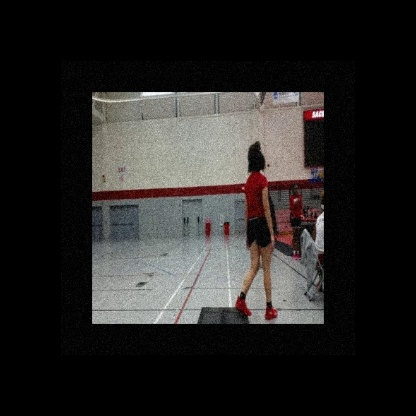lateral_flexion_right: (233, 136, 278, 324)
stance_width_broad: (233, 167, 278, 324)
